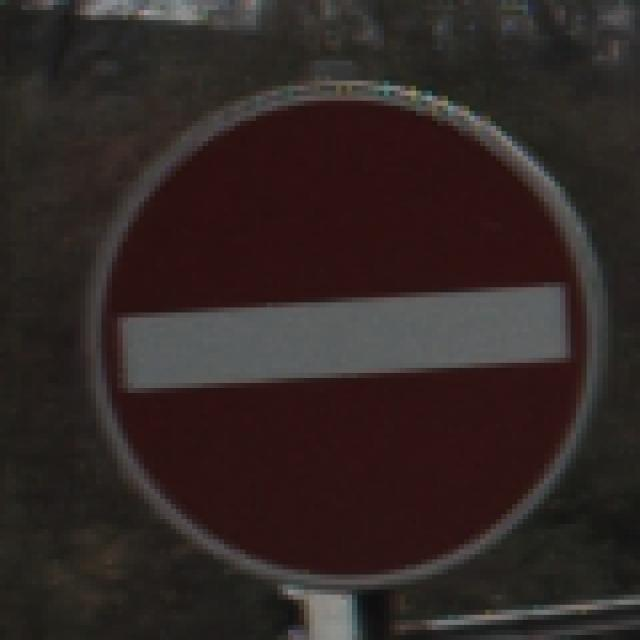No Entry: (60, 57, 582, 586)
